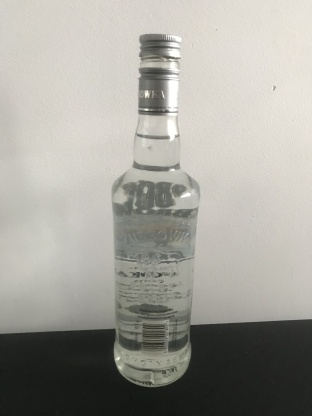nakretka: (136, 31, 182, 116)
